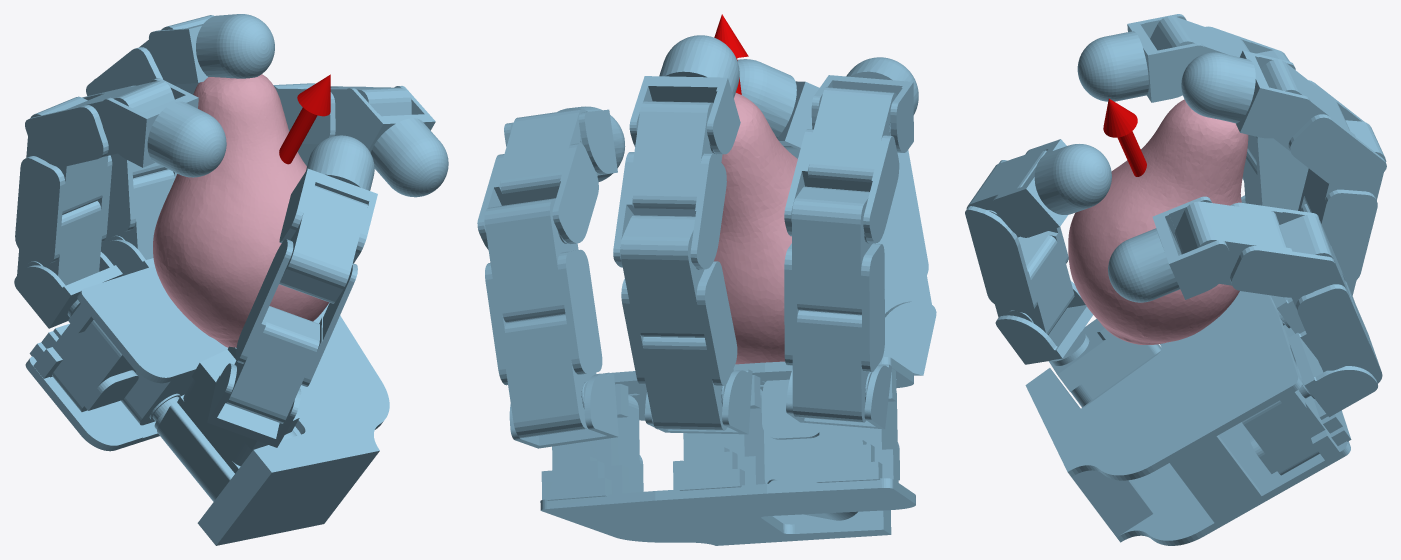
3 renders of one model, left to right at view 1: azimuth 30°, elevation 25°; view 2: azimuth 150°, elevation 25°; view 3: azimuth 270°, elevation 25°, orthographic. The views are drawn at different scales.
Visible parts, largest first — view 1: world, pear.stl; view 2: world, pear.stl; view 3: world, pear.stl.
Part boxes in pixels (x1=…): world: x1=14, y1=14, x2=448, y2=545; pear.stl: x1=153, y1=74, x2=329, y2=347; world: x1=477, y1=14, x2=936, y2=545; pear.stl: x1=714, y1=93, x2=797, y2=364; world: x1=965, y1=14, x2=1386, y2=545; pear.stl: x1=1068, y1=99, x2=1248, y2=344.
Bounding box in the file's own units: 0.1491 × 0.1893 × 0.1539.
